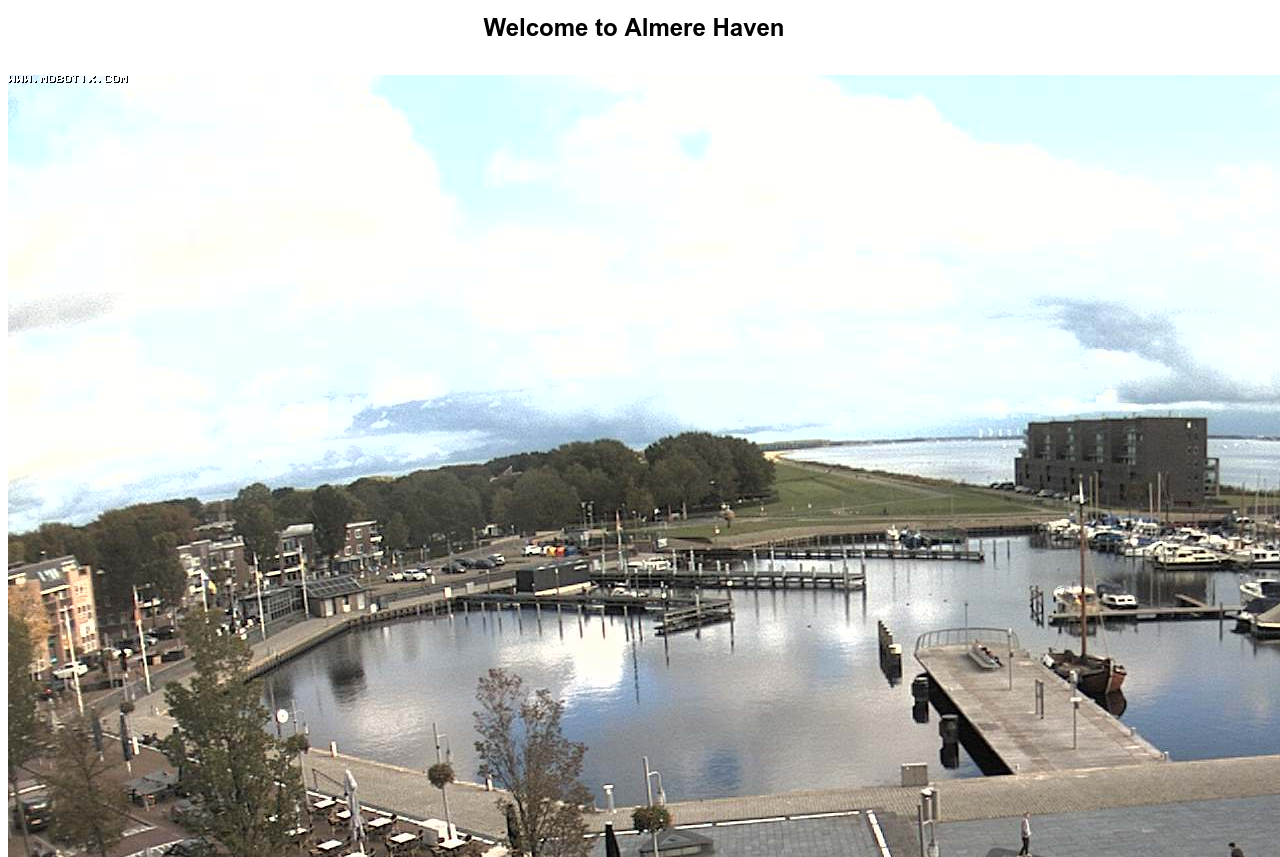maybe: (197, 570, 219, 597)
no: (293, 547, 309, 580), (250, 552, 266, 582), (130, 595, 144, 625), (612, 511, 626, 537)
